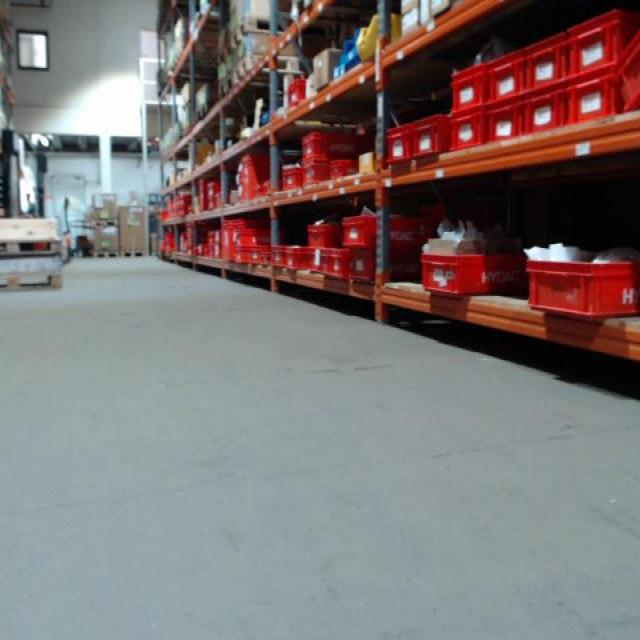pallet: (233, 55, 303, 85), (232, 19, 293, 53), (0, 272, 65, 294), (0, 237, 60, 257), (217, 77, 235, 101), (217, 40, 233, 64), (90, 218, 120, 230), (120, 247, 148, 259), (91, 249, 120, 260), (196, 103, 212, 122)
pallet_truck: (58, 193, 78, 259)
small_load_carrier: (524, 248, 638, 318), (422, 241, 523, 300), (568, 7, 632, 75), (342, 211, 438, 249), (527, 27, 573, 96), (564, 69, 617, 126), (524, 89, 574, 145), (484, 100, 526, 156), (222, 219, 265, 267), (343, 249, 402, 282), (485, 49, 526, 96), (449, 110, 487, 158), (412, 109, 446, 160), (617, 34, 638, 116), (449, 66, 488, 109), (382, 125, 412, 167), (303, 221, 343, 249), (280, 77, 308, 116), (297, 157, 331, 189), (299, 126, 330, 157), (232, 178, 269, 200), (306, 251, 333, 279), (327, 250, 352, 280), (247, 241, 270, 273), (278, 165, 299, 195), (234, 229, 268, 247), (286, 244, 306, 272), (237, 157, 274, 172), (330, 157, 352, 181), (207, 178, 223, 200), (232, 248, 252, 265), (273, 244, 286, 269), (211, 230, 225, 247), (213, 247, 225, 263), (207, 200, 221, 213)
